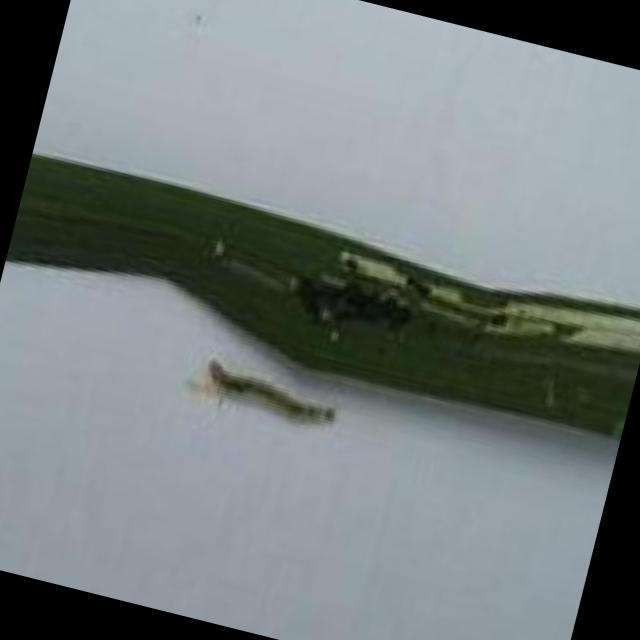leaf-folder: (183, 332, 370, 460)
